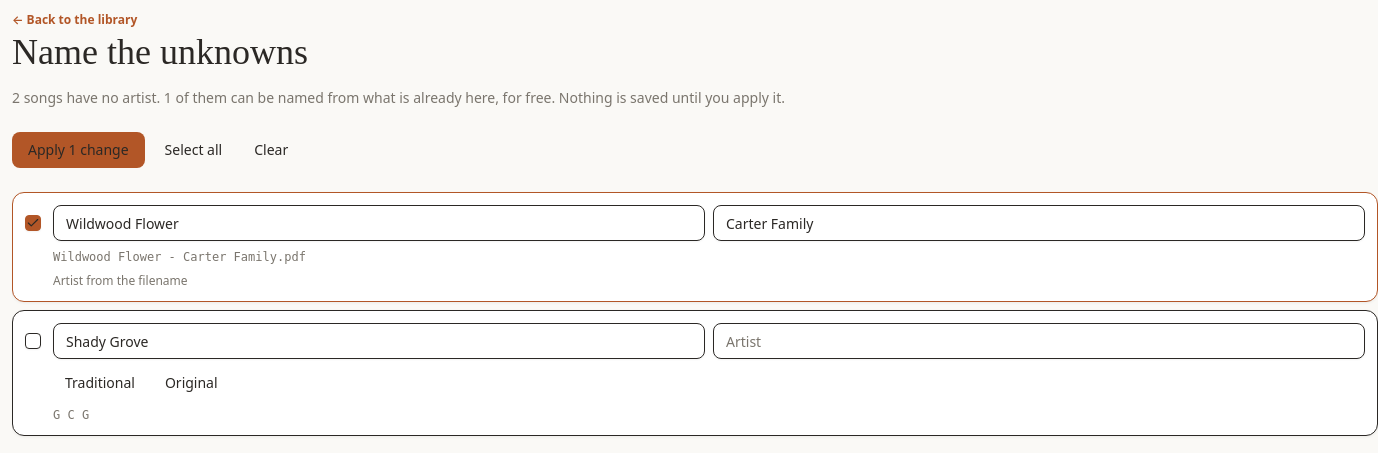
Test: TidyPage › drops a named row off the list and leaves the rest
This screenshot has width=1378, height=453.
Expected: the heading "Name the unknowns" is shown, [12,32,308,72]
What coordinates should you click on to do the following:
click the button "Apply 1 change"
I would click on:
 (78, 150)
Its box is [12,132,145,168].
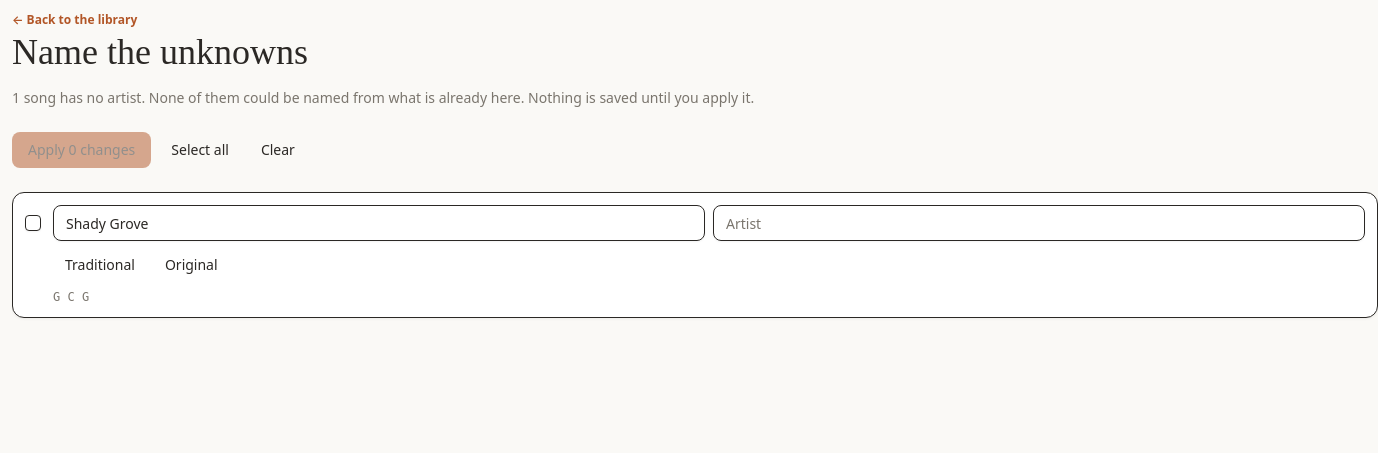
Expected: the element with test id "tidy-row-plain" is shown, [12,192,1377,318]
Now the element with test id "tidy-row-uuid-1" is gone
